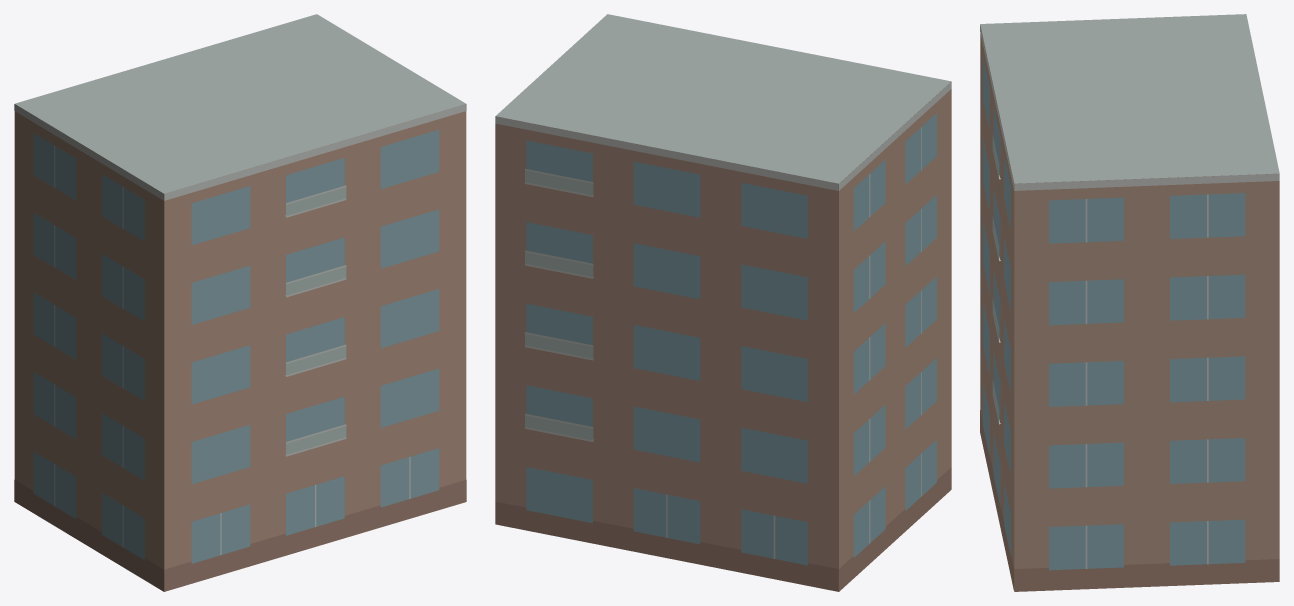
File: survey-upis-32655281.glb
3 renders of one model, left to right at view 1: azimuth 30°, elevation 25°; view 2: azimuth 150°, elevation 25°; view 3: azimuth 270°, elevation 25°, orthographic. The views are drawn at different scales.
Visible parts, largest first — view 1: survey-upis-32655281.tmp; view 2: survey-upis-32655281.tmp; view 3: survey-upis-32655281.tmp.
Boxes of the visible parts, box(x1,y1,x2,y2) form: survey-upis-32655281.tmp: box(14, 14, 466, 591); survey-upis-32655281.tmp: box(495, 14, 951, 591); survey-upis-32655281.tmp: box(980, 14, 1279, 591).
Bounding box in the file's own units: 12.13 × 13.6 × 9.06.
